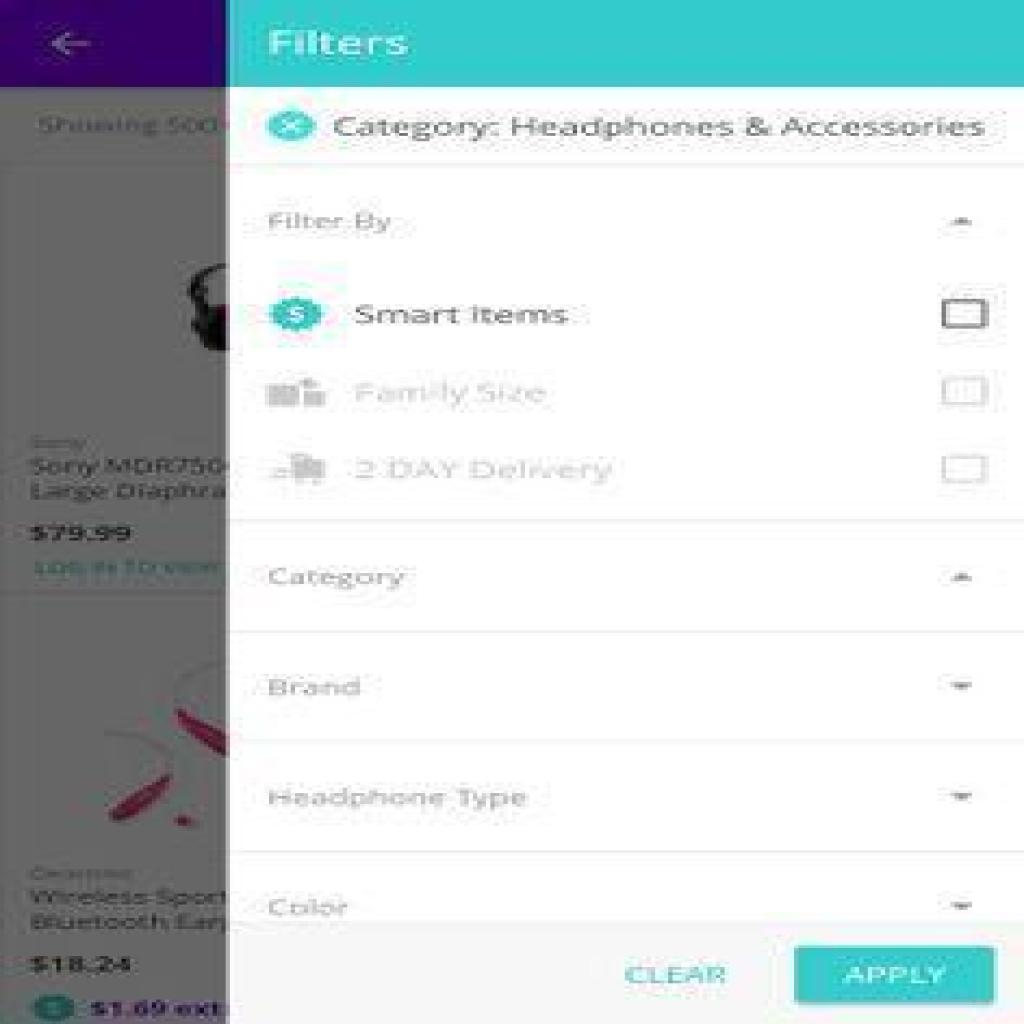button: (790, 945, 998, 1005)
checkbox: (937, 375, 994, 407), (269, 109, 317, 144), (942, 299, 989, 331), (942, 454, 989, 484)
dropdown: (230, 630, 1024, 742), (230, 741, 1024, 853), (234, 522, 1024, 630), (230, 853, 1024, 923)
icon: (265, 448, 334, 492), (260, 377, 334, 413), (274, 291, 326, 334), (942, 209, 985, 234)
label: (343, 454, 620, 486), (352, 301, 582, 337), (347, 375, 564, 413), (260, 206, 404, 236), (620, 964, 734, 989)
